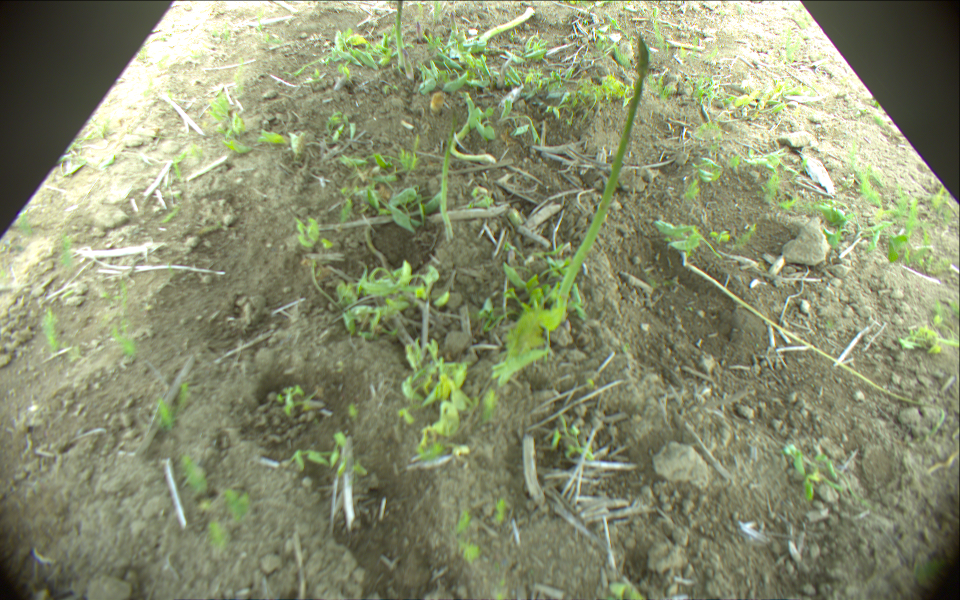aspa: (685, 263, 925, 406), (555, 32, 650, 322), (476, 6, 537, 44), (440, 103, 457, 239), (394, 1, 405, 66), (403, 49, 413, 79), (416, 22, 423, 42), (450, 13, 455, 39)
